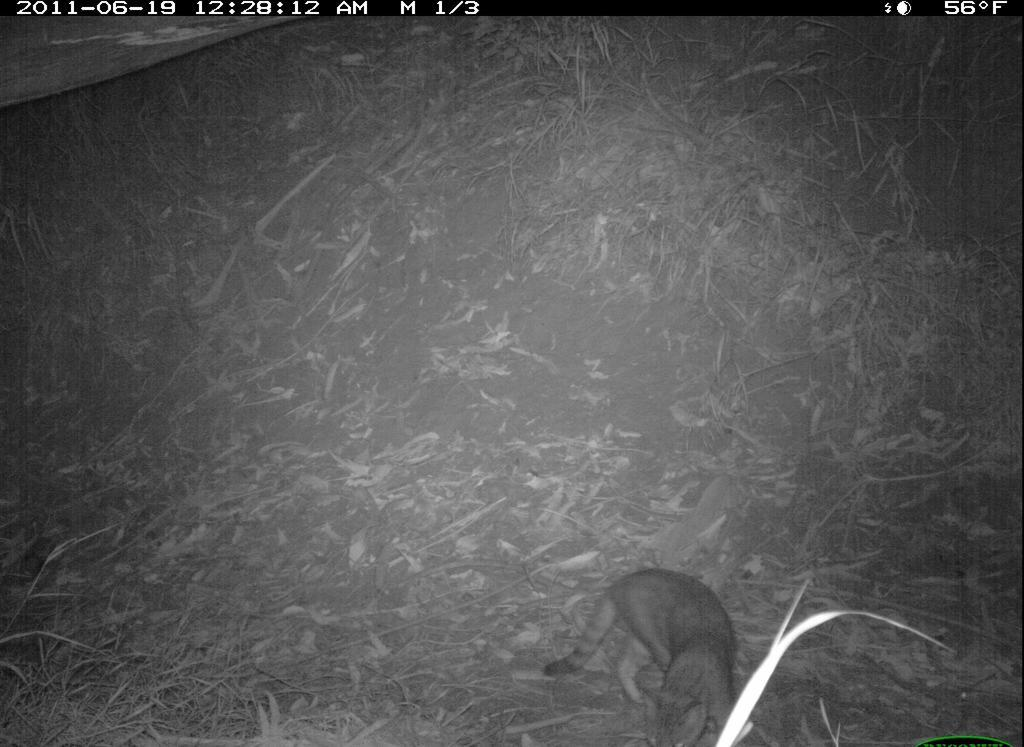cat: (541, 565, 757, 747)
